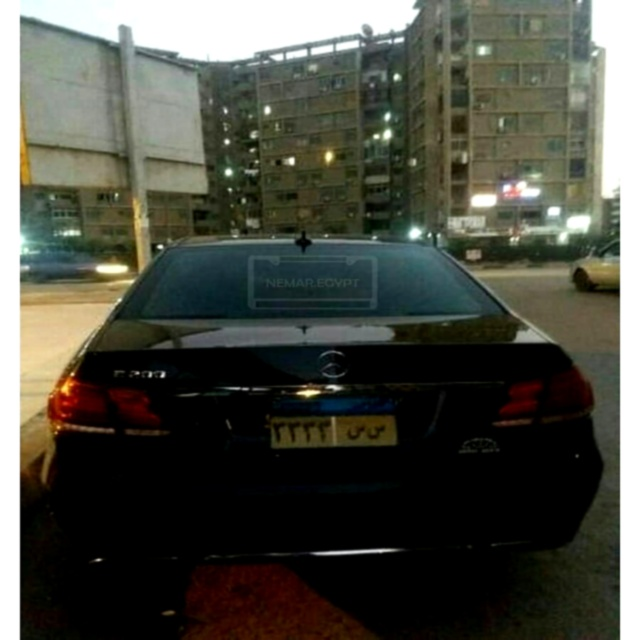License Plate: (266, 393, 400, 452)
